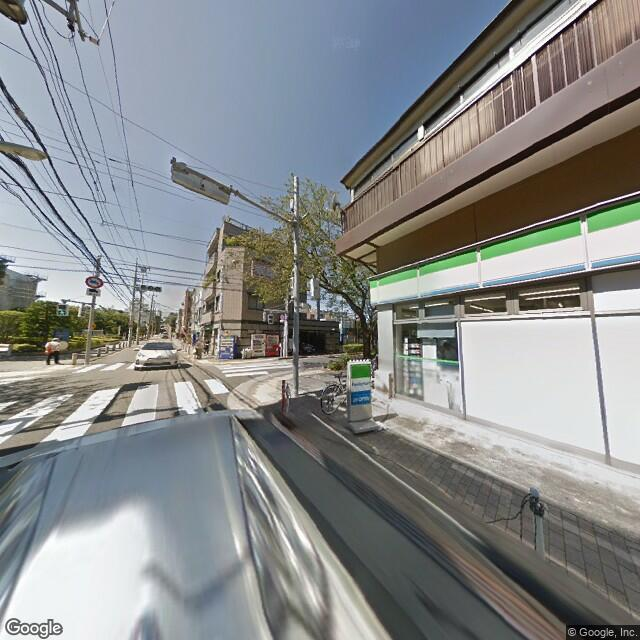family_mart: (369, 199, 639, 308), (348, 358, 374, 408)
